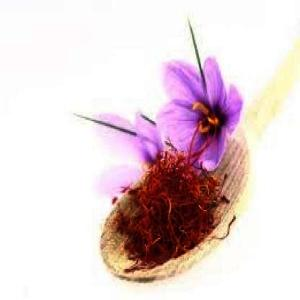Saffron: (155, 58, 244, 173)
